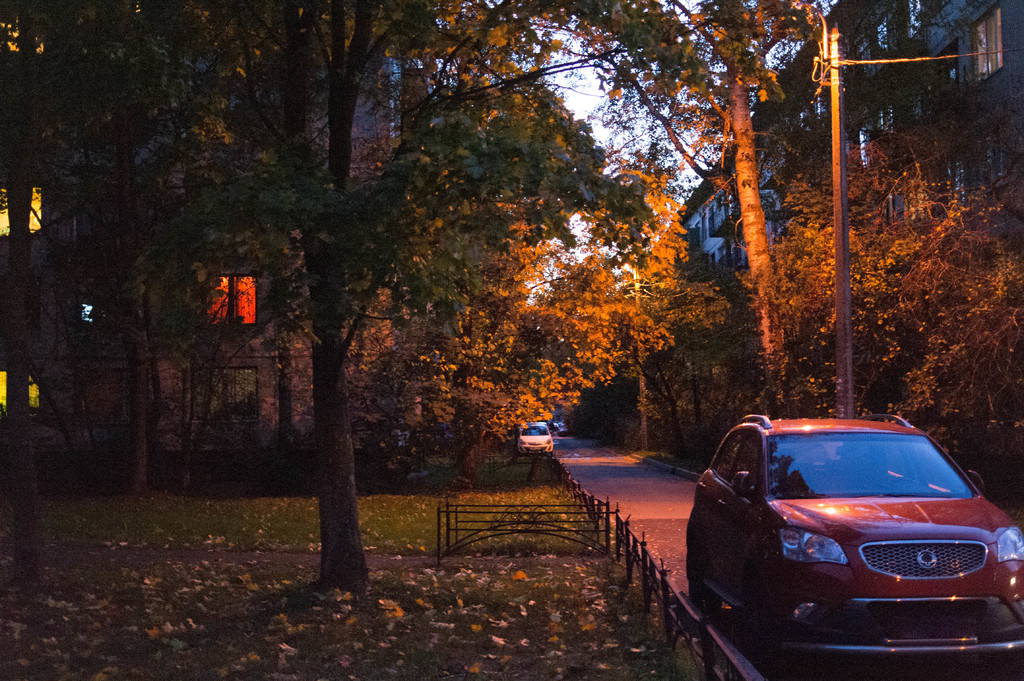Car: (696, 415, 1015, 646)
